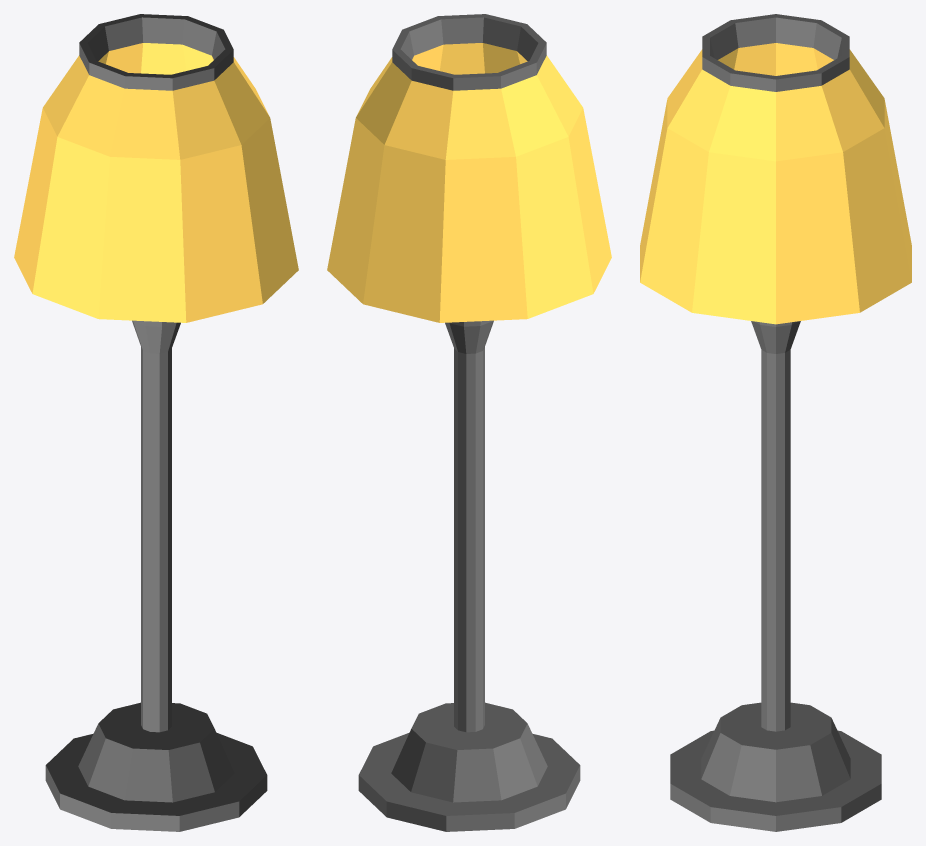
File: Lamp 3.fbx
The picture shows the model from 3 angles, left to right: view 1: azimuth 30°, elevation 25°; view 2: azimuth 150°, elevation 25°; view 3: azimuth 270°, elevation 25°; orthographic projection.
Parts seen in each view (by area): view 1: Node 0; view 2: Node 0; view 3: Node 0.
Boxes of the visible parts, x1=… form: Node 0: x1=14, y1=14, x2=298, y2=831; Node 0: x1=327, y1=14, x2=611, y2=831; Node 0: x1=640, y1=14, x2=911, y2=831.
Size of the model in its own units: 0.5243 by 1.57 by 0.5513.
